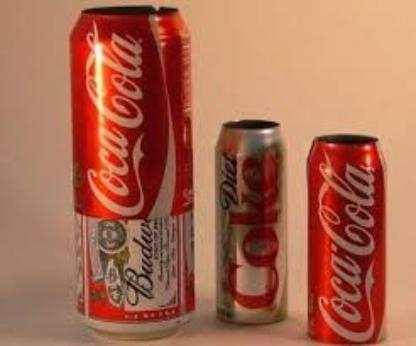Can: (68, 7, 196, 338), (306, 135, 386, 345), (215, 120, 287, 326)
